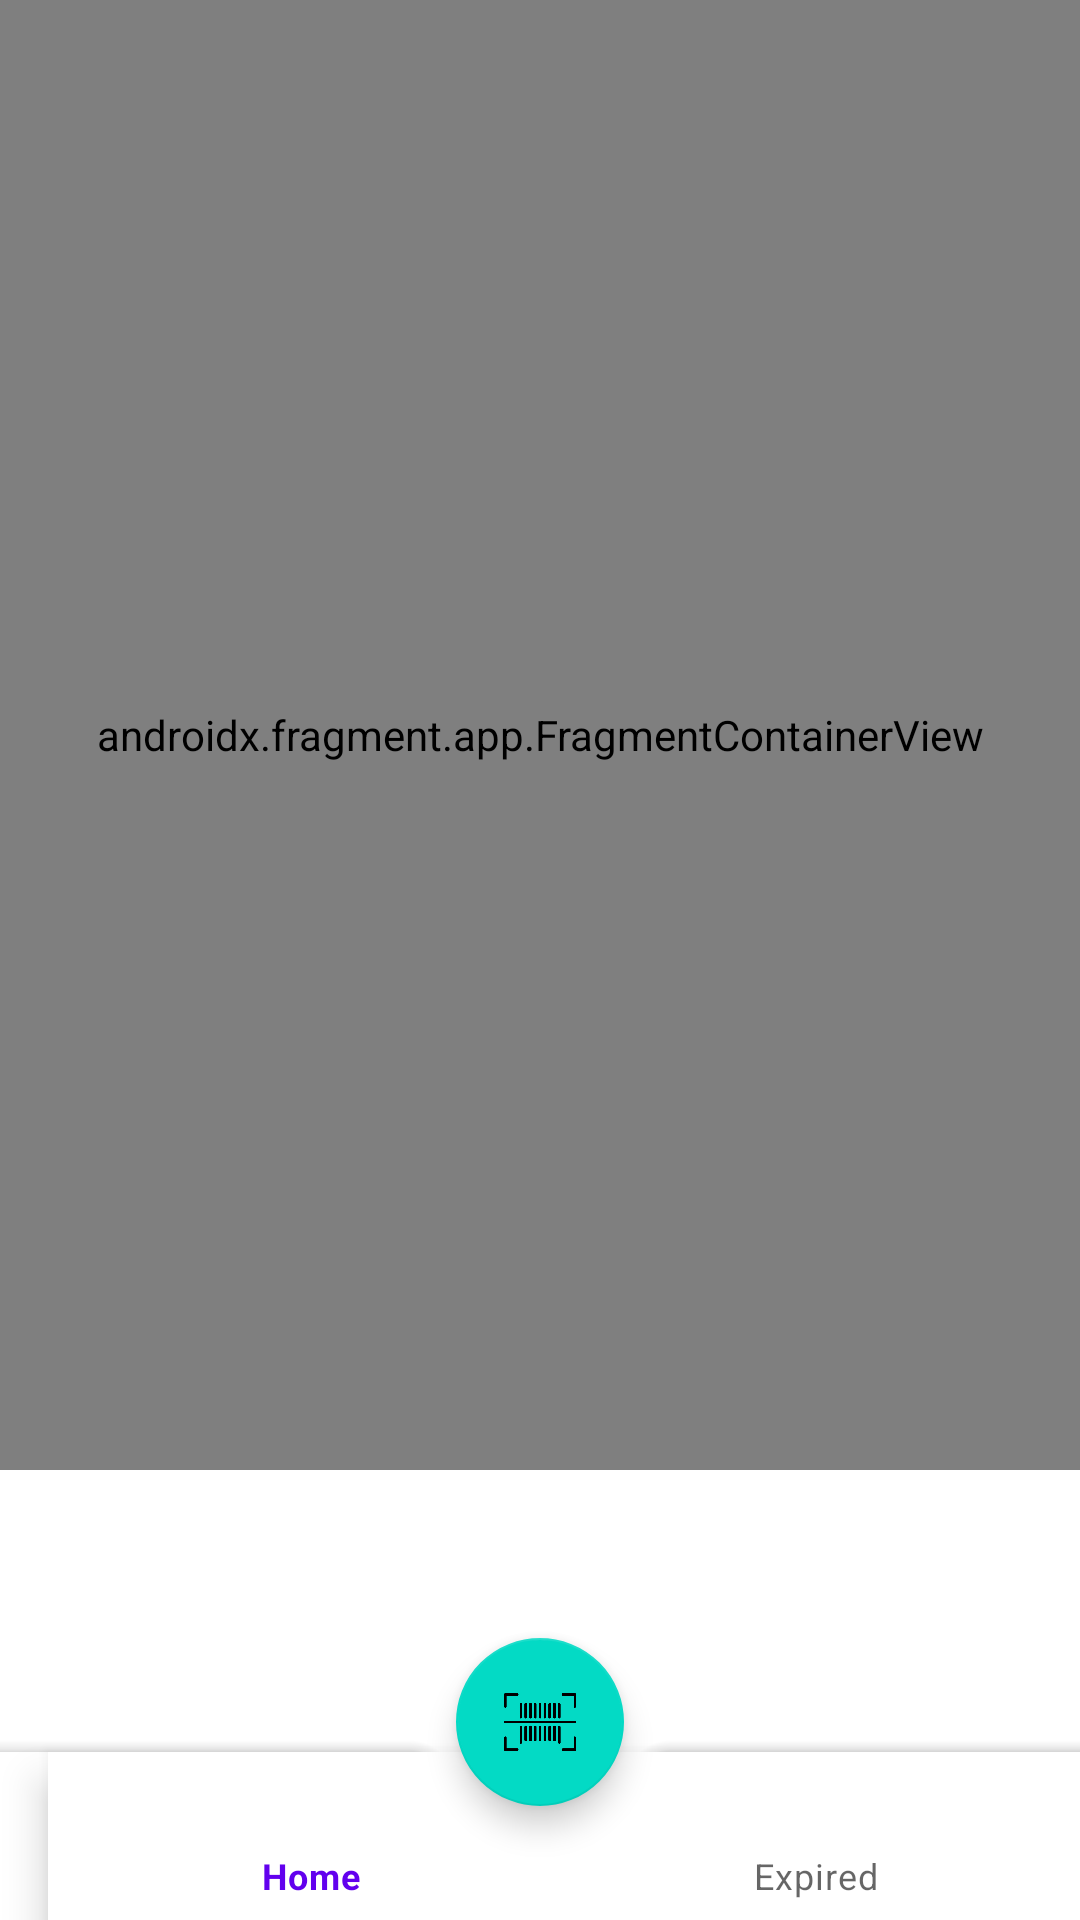

Where to tap for icons on this 1080px x 1920px app screen, as (x=x, y=y):
scan: (x=540, y=1744)
